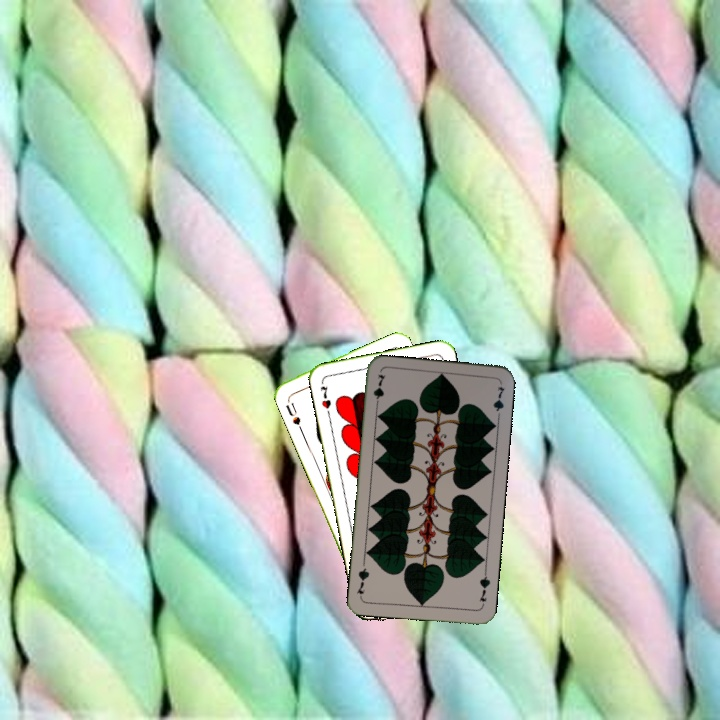G7: (369, 370, 388, 411), (475, 568, 493, 609)
H7: (316, 382, 334, 419)
SU: (281, 398, 303, 427)
